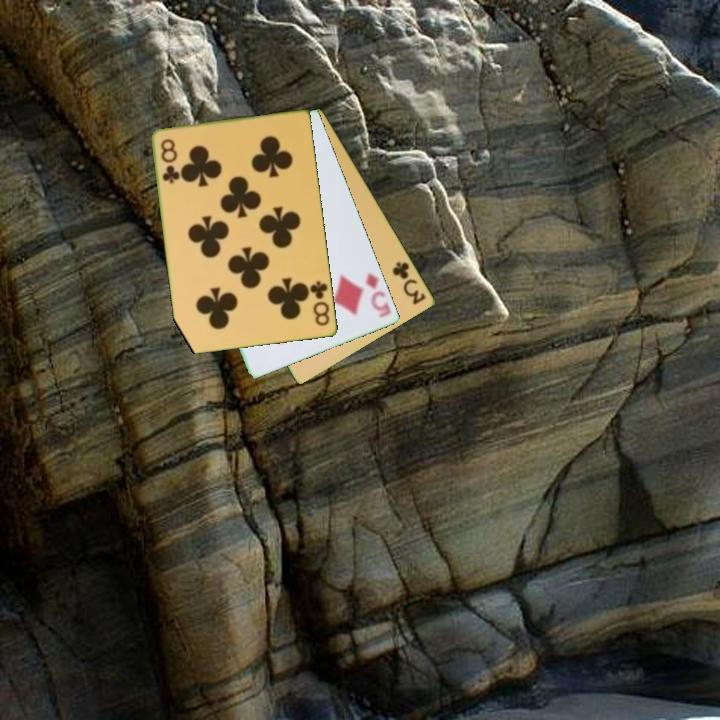3c: (389, 258, 429, 308)
5d: (362, 270, 394, 320)
8c: (307, 277, 332, 329), (157, 135, 182, 186)
